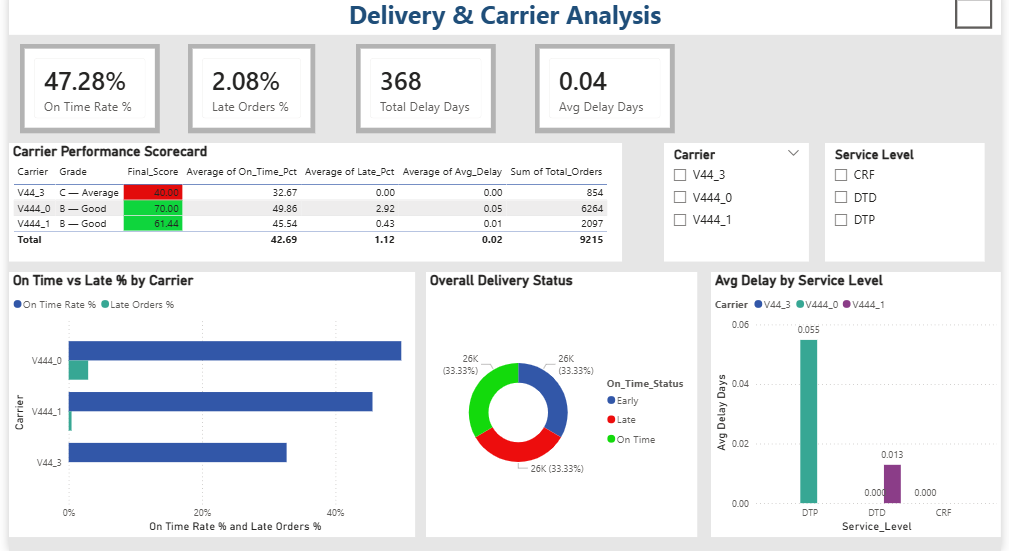

This screenshot's page, from the dashboard's own definition file:
{"tool":"powerbi","page":{"name":"Delivery & Carrier Analysis","canvas":[1280,720],"ordinal":2},"visuals":[{"type":"textbox","box":[0,0,1279.8,53.9],"z":0},{"type":"cardVisual","fields":{"Data":["_Measures.On Time Rate %"]},"box":[14.2,65.2,180,114.8],"z":1000},{"type":"cardVisual","fields":{"Data":["_Measures.Late Orders %"]},"box":[231,65.2,164.4,114.8],"z":2000},{"type":"cardVisual","fields":{"Data":["_Measures.Avg Delay Days"]},"box":[678.9,65.2,180,114.8],"z":3000},{"type":"cardVisual","fields":{"Data":["_Measures.Total Delay Days"]},"box":[447.9,65.2,180,114.8],"z":4000},{"type":"tableEx","title":"Carrier Performance Scorecard","fields":{"Values":["carrier_scorecard.Carrier","carrier_scorecard.Grade","carrier_scorecard.Final_Score","Avg(carrier_scorecard.On_Time_Pct)","Avg(carrier_scorecard.Late_Pct)","Avg(carrier_scorecard.Avg_Delay)","Sum(carrier_scorecard.Total_Orders)"]},"box":[0,194.2,790.9,153.1],"z":5000},{"type":"clusteredBarChart","title":"On Time vs Late % by Carrier","fields":{"Category":["OrderList.Carrier"],"Y":["_Measures.On Time Rate %","_Measures.Late Orders %"]},"box":[0,360,524.4,341.6],"z":6000},{"type":"donutChart","title":"Overall Delivery Status","fields":{"Category":["OrderList.On_Time_Status"],"Y":["_Measures.Total Orders"]},"box":[538.6,360,350.1,341.6],"z":7000},{"type":"clusteredColumnChart","title":"Avg Delay by Service Level","fields":{"Y":["_Measures.Avg Delay Days"],"Series":["OrderList.Carrier"],"Category":["OrderList.Service_Level"]},"box":[905.7,360,374.2,341.6],"z":8000},{"type":"slicer","fields":{"Values":["OrderList.Carrier"]},"box":[844.7,194.2,187.1,153.1],"z":9000},{"type":"slicer","fields":{"Values":["OrderList.Service_Level"]},"box":[1053.1,194.2,205.5,153.1],"z":10000},{"type":"actionButton","box":[1220.3,7.1,48.2,39.7],"z":10001}]}

Visuals, with their boxes on the page's 1280x720 design canvas (x1, y1, x2, y2). These are canvas units, not pixel positions in the 1009x551 screenshot, which may show the page scaled, cropped or inside an application window:
textbox: BBox(0, 0, 1280, 54)
cardVisual - _Measures.On Time Rate %: BBox(14, 65, 194, 180)
cardVisual - _Measures.Late Orders %: BBox(231, 65, 395, 180)
cardVisual - _Measures.Avg Delay Days: BBox(679, 65, 859, 180)
cardVisual - _Measures.Total Delay Days: BBox(448, 65, 628, 180)
"Carrier Performance Scorecard" tableEx: BBox(0, 194, 791, 347)
"On Time vs Late % by Carrier" clusteredBarChart: BBox(0, 360, 524, 702)
"Overall Delivery Status" donutChart: BBox(539, 360, 889, 702)
"Avg Delay by Service Level" clusteredColumnChart: BBox(906, 360, 1280, 702)
slicer - OrderList.Carrier: BBox(845, 194, 1032, 347)
slicer - OrderList.Service_Level: BBox(1053, 194, 1259, 347)
actionButton: BBox(1220, 7, 1268, 47)
